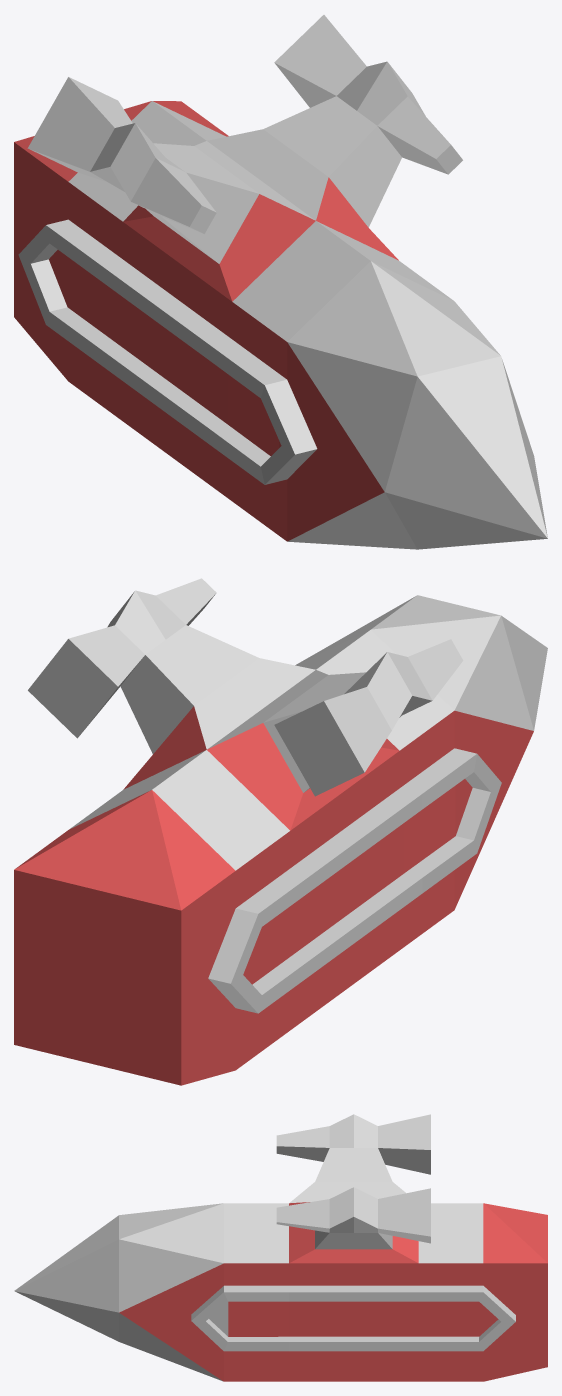
Rendered from Human_carrier.glb.
3 views of the same model, one above another, from view 1: azimuth 30°, elevation 25°; view 2: azimuth 150°, elevation 25°; view 3: azimuth 270°, elevation 25° (orthographic). The views are drawn at different scales.
Parts seen in each view (by area): view 1: Cube; view 2: Cube; view 3: Cube.
Part boxes in pixels (box(x1,y1,x2,y2)): Cube: box(14, 15, 547, 549); Cube: box(14, 578, 547, 1085); Cube: box(14, 1114, 547, 1381).
Bounding box in the file's own units: 4.03 × 3.99 × 9.33.
